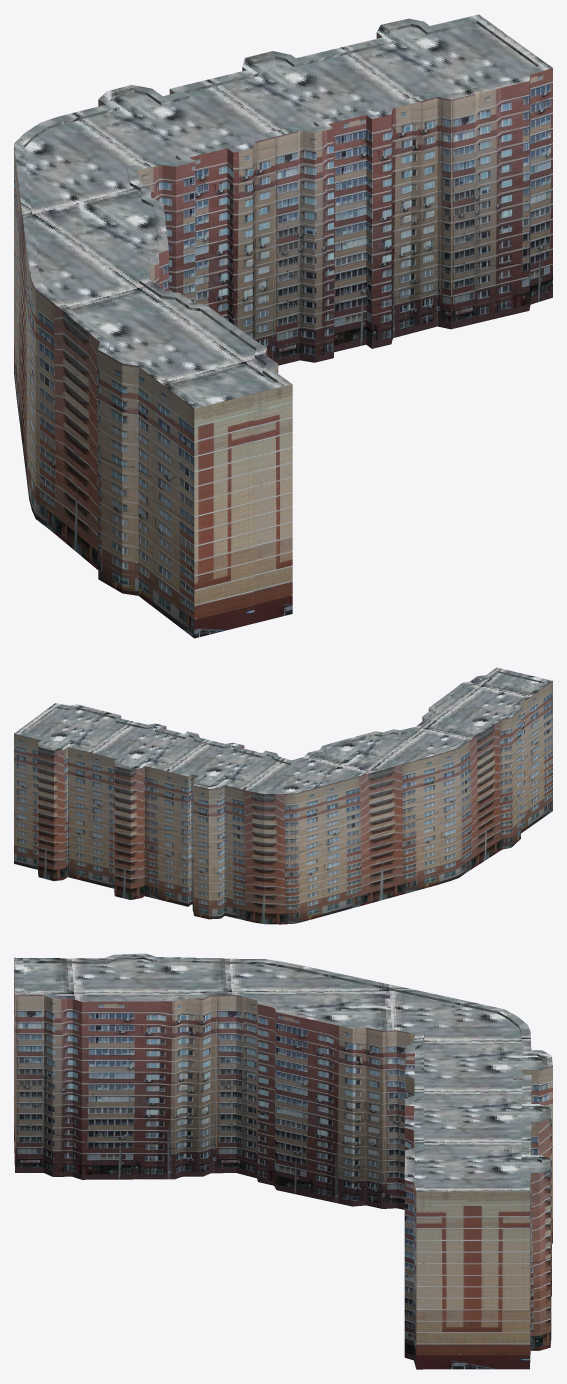
3 views of the same model, one above another, from view 1: azimuth 30°, elevation 25°; view 2: azimuth 150°, elevation 25°; view 3: azimuth 270°, elevation 25° (orthographic). The views are drawn at different scales.
Visible parts, largest first — view 1: Geode; view 2: Geode; view 3: Geode.
Boxes of the visible parts, x1,y1,x2,y2 form: Geode: [14, 14, 552, 638]; Geode: [14, 667, 552, 924]; Geode: [14, 953, 552, 1369].
Size of the model in its own units: 116 by 40.32 by 111.
5 materials, 4 textured.
